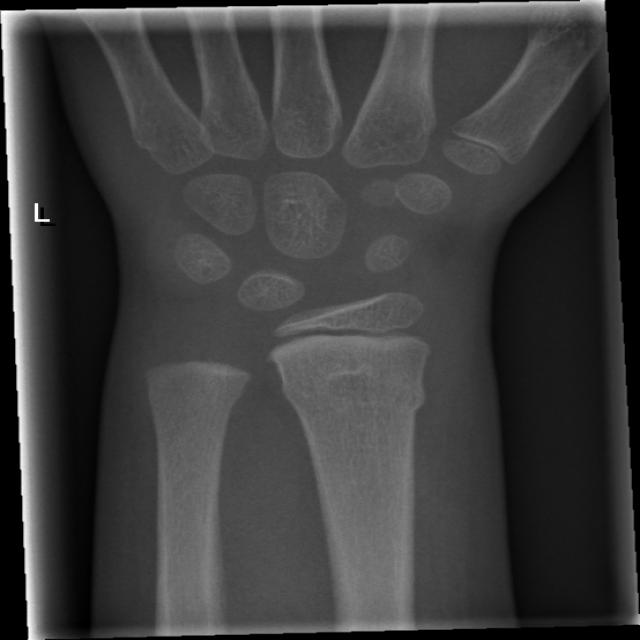radius fracture: (269, 362, 454, 506)
